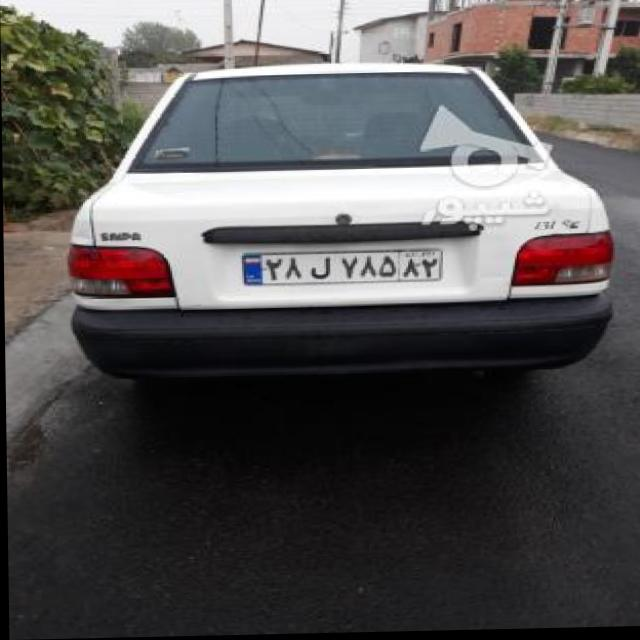licence: (237, 249, 442, 285)
